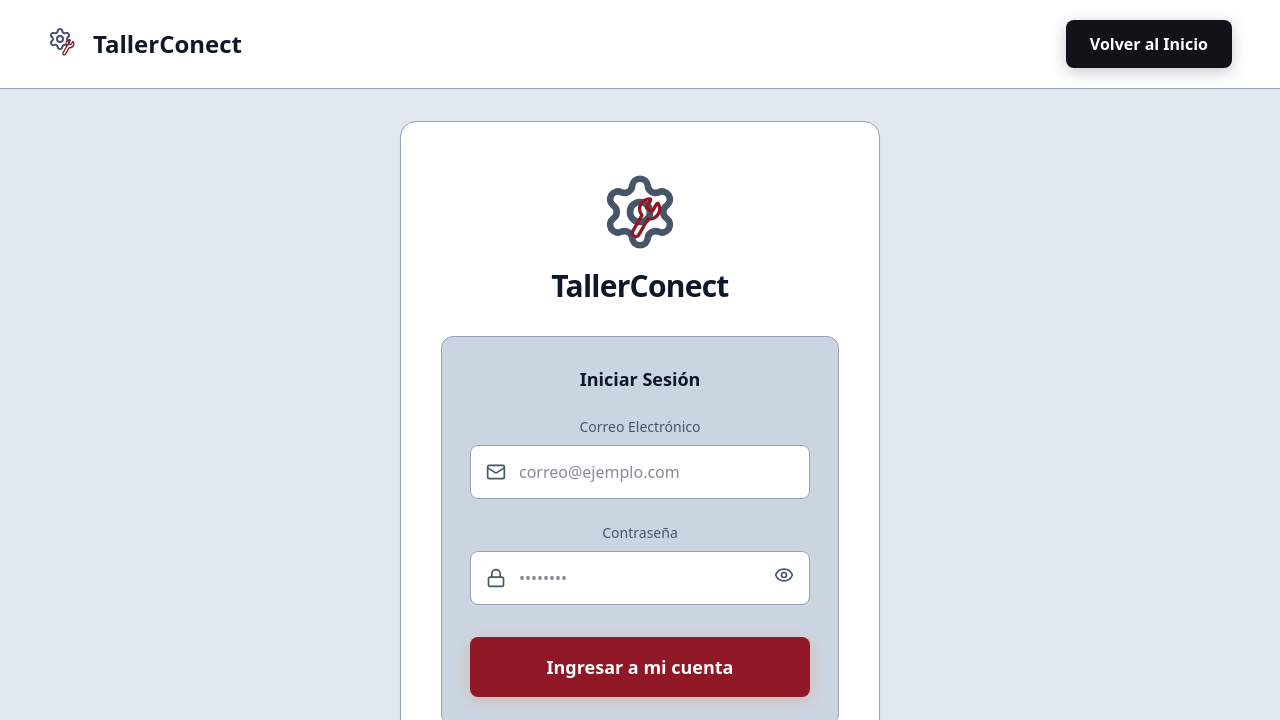
it: LoginPage: flujo funcional de inicio de sesión › asocia el error de validación con el campo de correo
Type "ClientePrueba123!" into the password field labelled "Contraseña" at (640, 578), box [470,551,810,605]
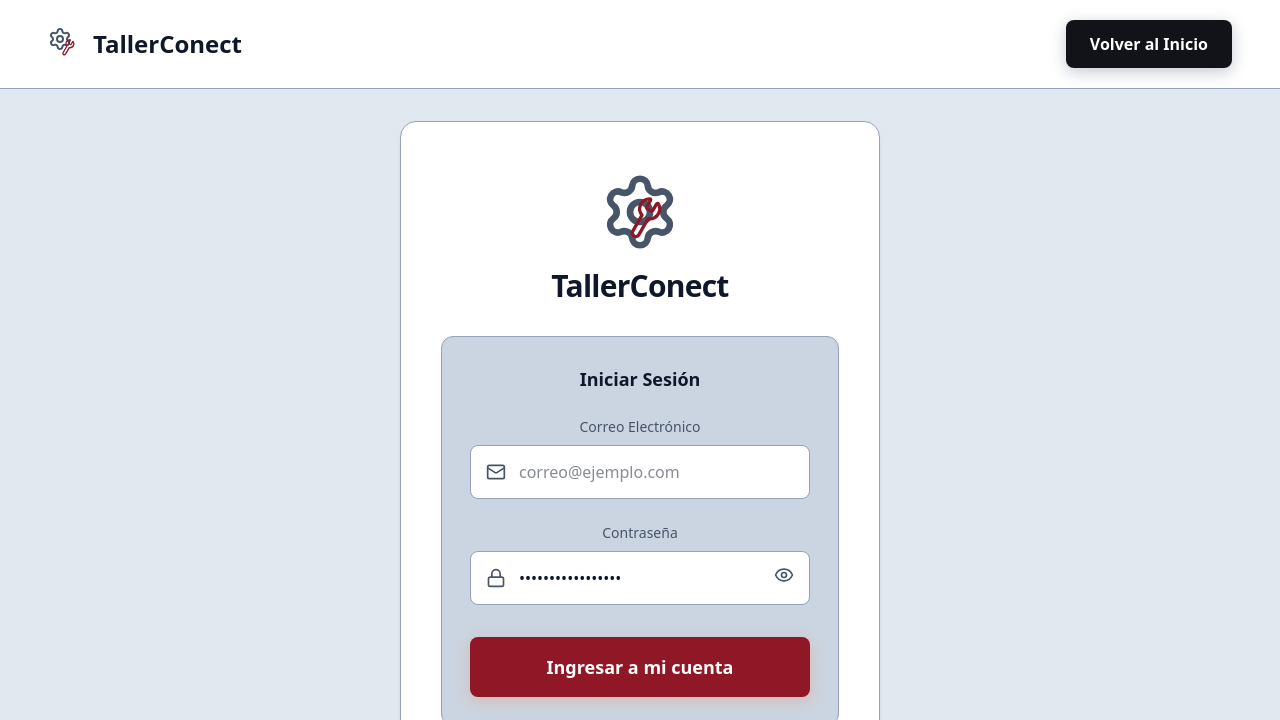
Click the button "Ingresar a mi cuenta" at (640, 667), box [470,637,810,697]
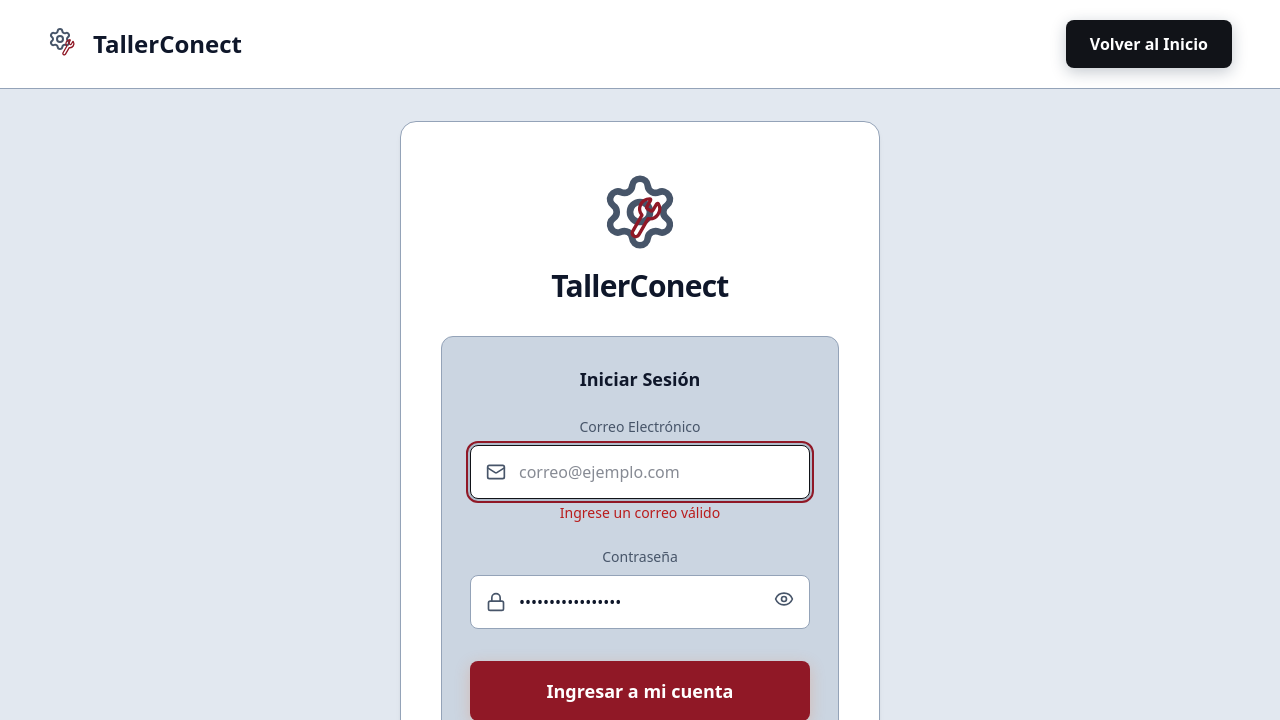
Expected: the text "Ingrese un correo válido" is shown, [560,503,720,522]
